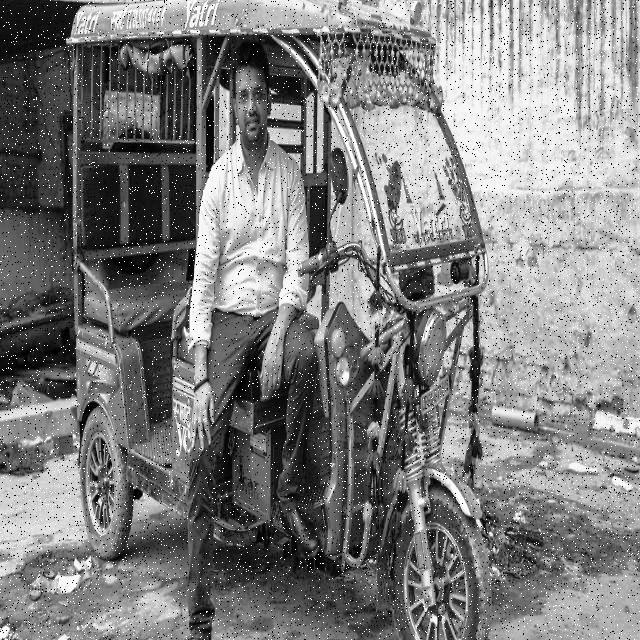Toto: (69, 0, 488, 640)
